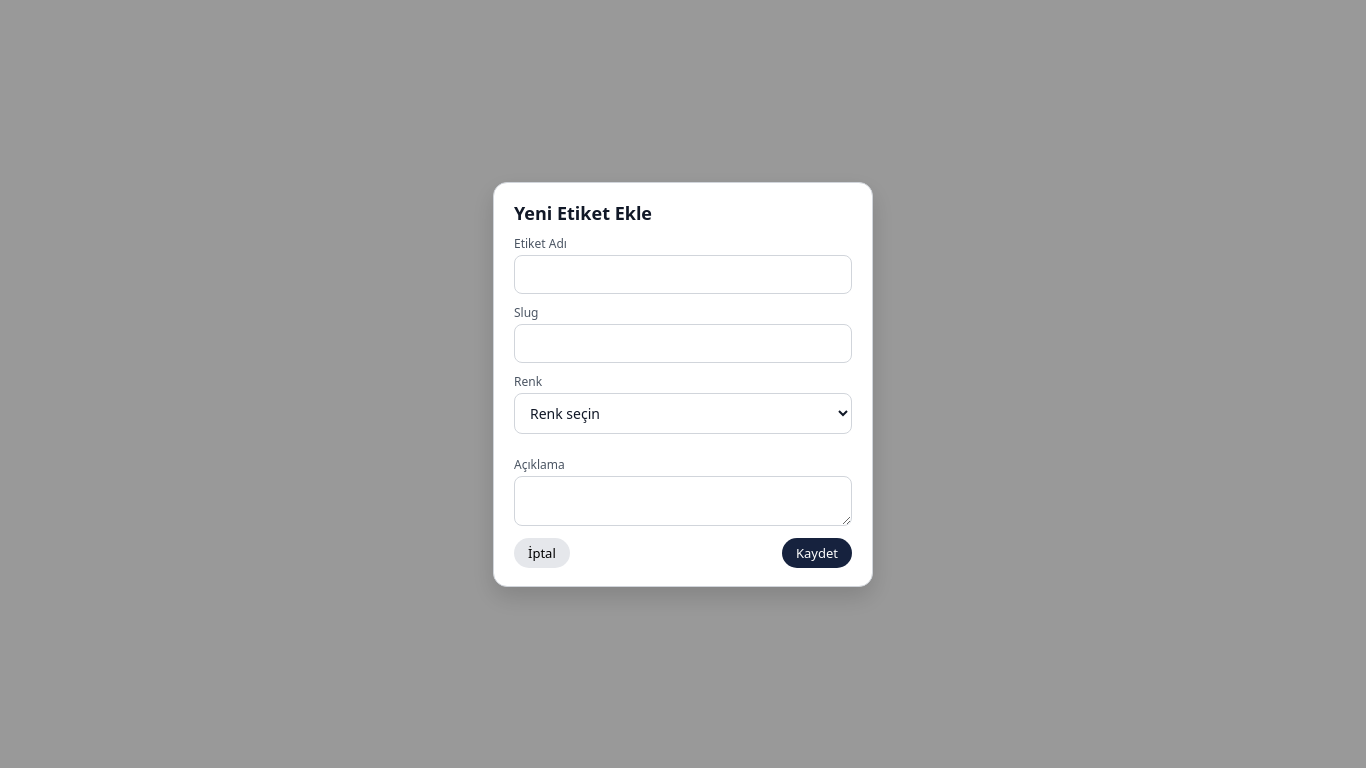
Scenario: AddTagModal › auto-generates a slug from the tag name
Type "VIP Müşteri!" into the field below "Etiket Adı" at (683, 274), box [514,254,852,294]
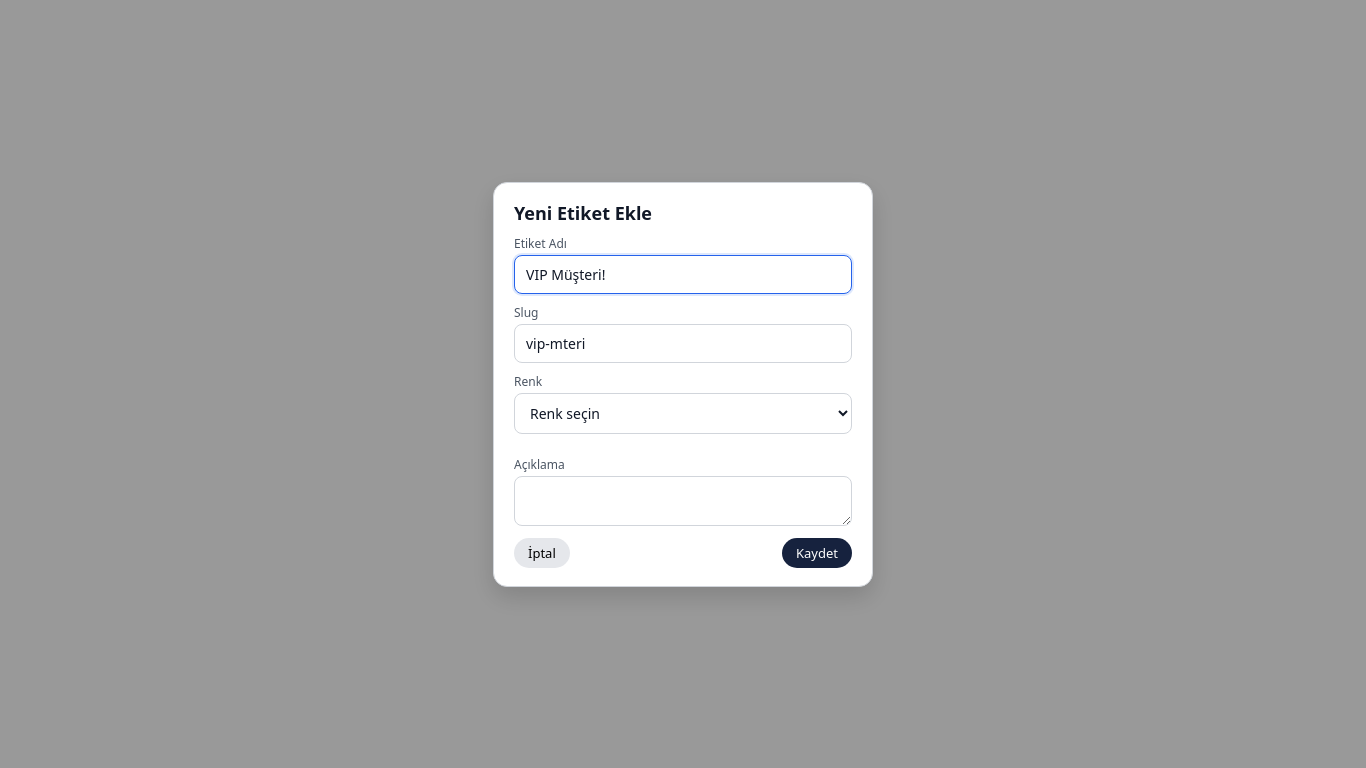
Expected: the field below "Slug" holds "vip-mteri", [514,324,852,362]
